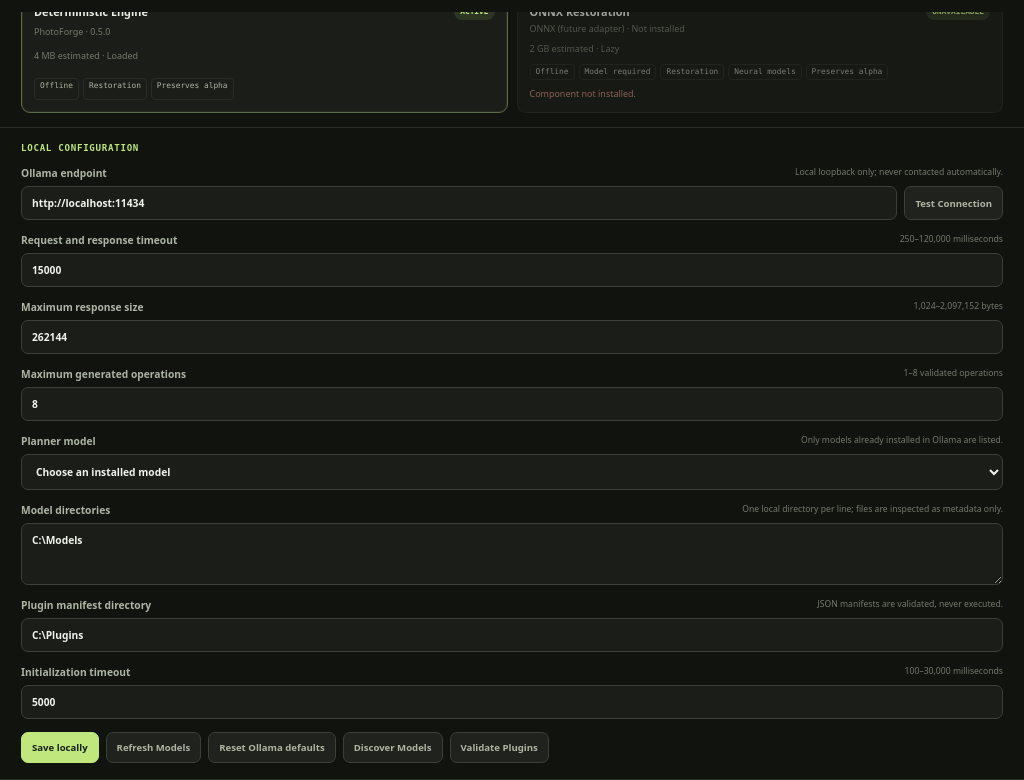
ComponentsSettings › labels validated manifests as execution disabled
(page scrolled)
What coordinates should you click on to do the following:
click the button "Validate Plugins"
I would click on:
 (499, 748)
Its box is [450,732,549,763].
(page scrolled)
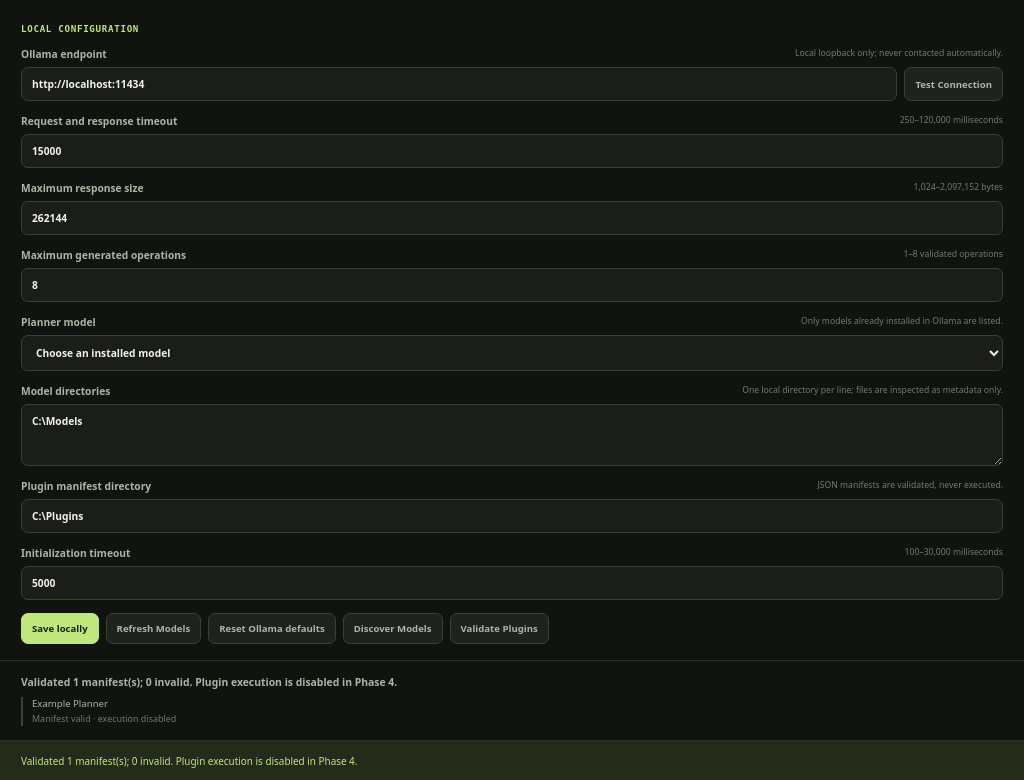
Expected: the text "Example Planner" is shown, [32,697,108,710]
Expected: the text "Manifest valid · execution disabled" is shown, [32,712,176,725]
